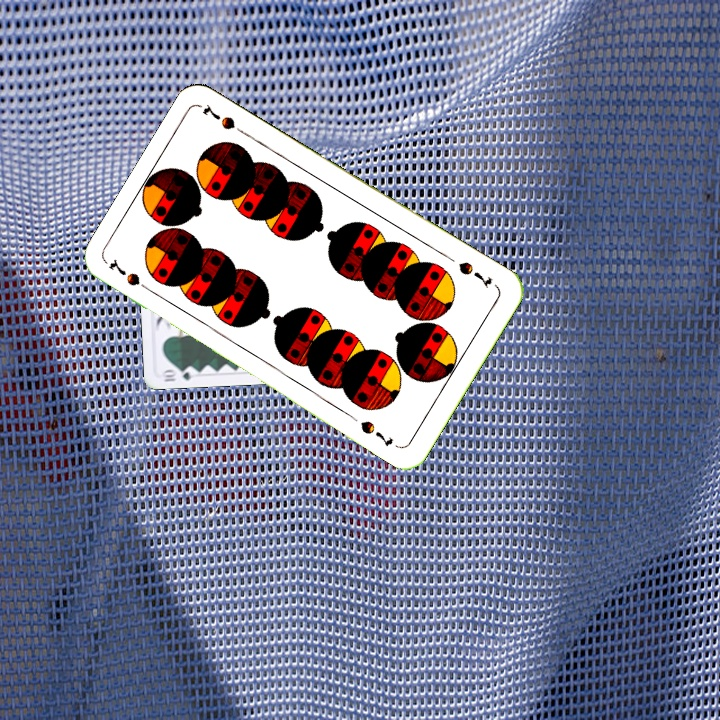G10: (158, 363, 199, 384)
S7: (105, 255, 157, 296), (454, 257, 495, 291)
